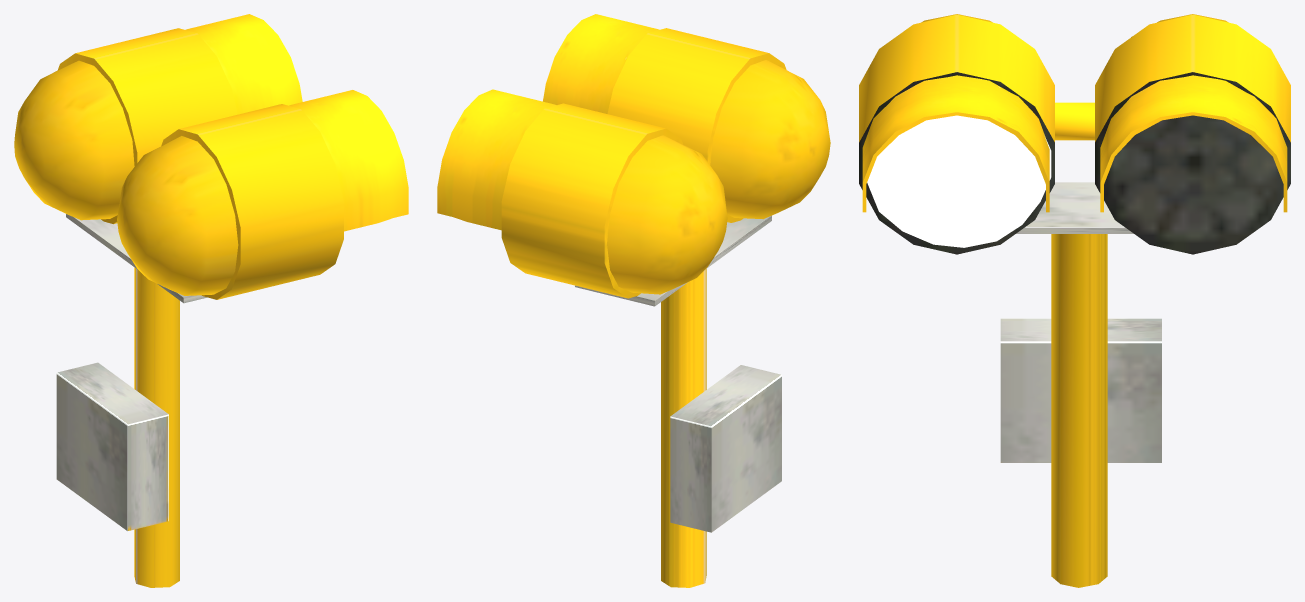
The model's file is wigwag.dae.
The picture shows the model from 3 angles, left to right: view 1: azimuth 30°, elevation 25°; view 2: azimuth 150°, elevation 25°; view 3: azimuth 270°, elevation 25°; orthographic projection. The views are drawn at different scales.
Parts seen in each view (by area): view 1: node1; view 2: node1; view 3: node1, node4.
Part boxes in pixels (left/top/right/bottom): node1: left=14, top=14, right=408, bottom=587; node1: left=437, top=14, right=830, bottom=587; node1: left=859, top=14, right=1290, bottom=587; node4: left=867, top=86, right=1051, bottom=247.
Bounding box in the file's own units: 0.696 × 0.952 × 1.35.
1 material, 1 textured.
